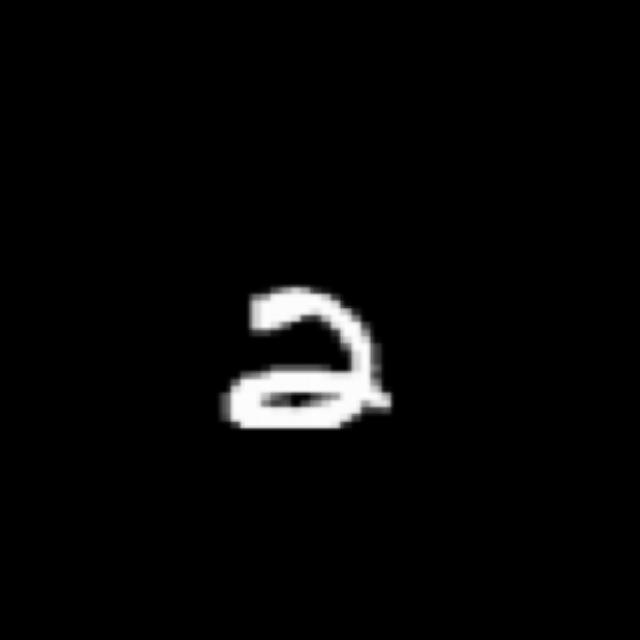two -2-: (217, 281, 407, 451)
